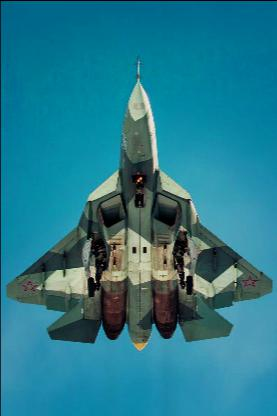SR71: (5, 54, 271, 350)
